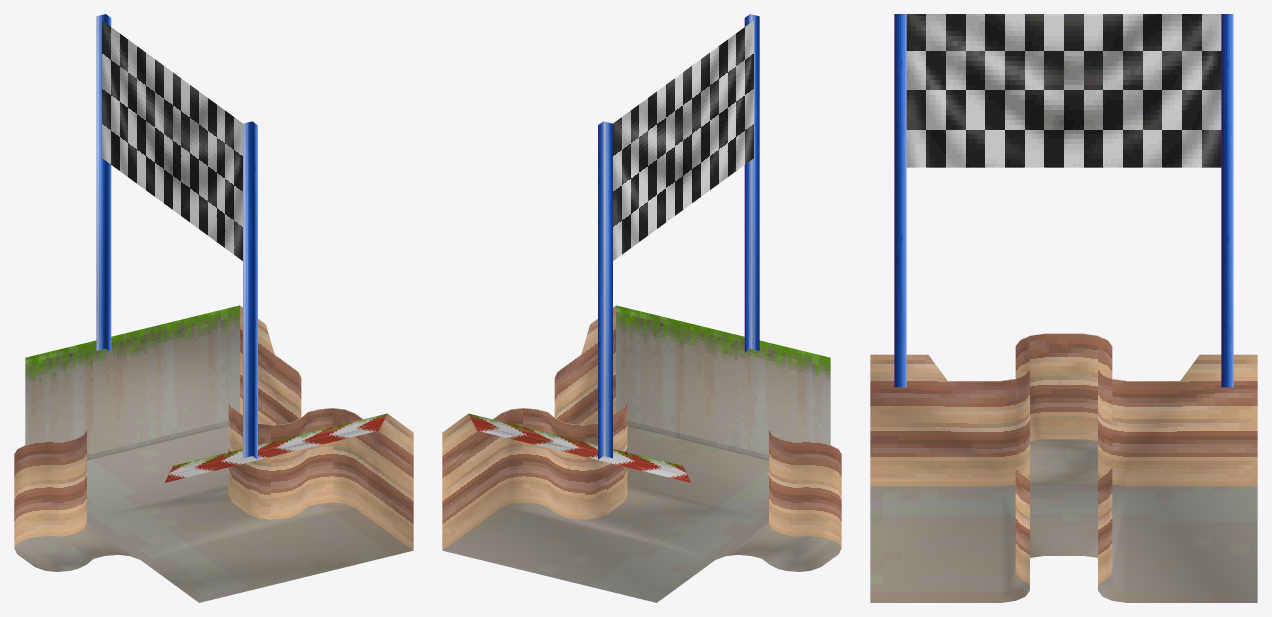
File: ps2_save-icons_rcrevengepro-track.glb
The picture shows the model from 3 angles, left to right: view 1: azimuth 30°, elevation 25°; view 2: azimuth 150°, elevation 25°; view 3: azimuth 270°, elevation 25°; orthographic projection. The views are drawn at different scales.
Visible parts, largest first — view 1: slime1.ico; view 2: slime1.ico; view 3: slime1.ico.
Part boxes in pixels (x1,y1,x2,y2): slime1.ico: (14, 14, 413, 602); slime1.ico: (442, 14, 841, 602); slime1.ico: (870, 14, 1257, 602).
Size of the model in its own units: 2.99 by 4.3 by 2.99.
Materials: 1 (1 with a texture image).
